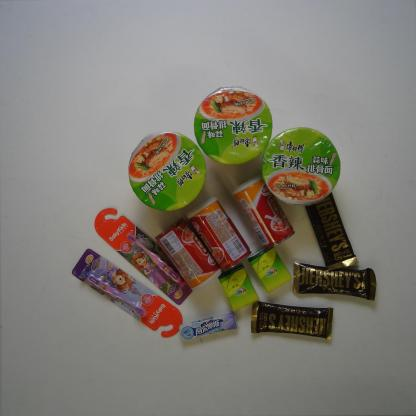Candy: (178, 310, 240, 341)
Canned Food: (187, 196, 250, 270), (233, 175, 296, 249), (155, 220, 221, 289)
Chocolate: (306, 192, 360, 272), (248, 300, 335, 341), (292, 261, 376, 301)
Instant Noodles: (124, 129, 210, 213), (263, 124, 341, 205), (192, 87, 274, 164)
Personal Hygiene: (71, 246, 184, 338), (93, 208, 191, 304)
Tissue: (218, 260, 260, 312), (247, 244, 290, 294)
